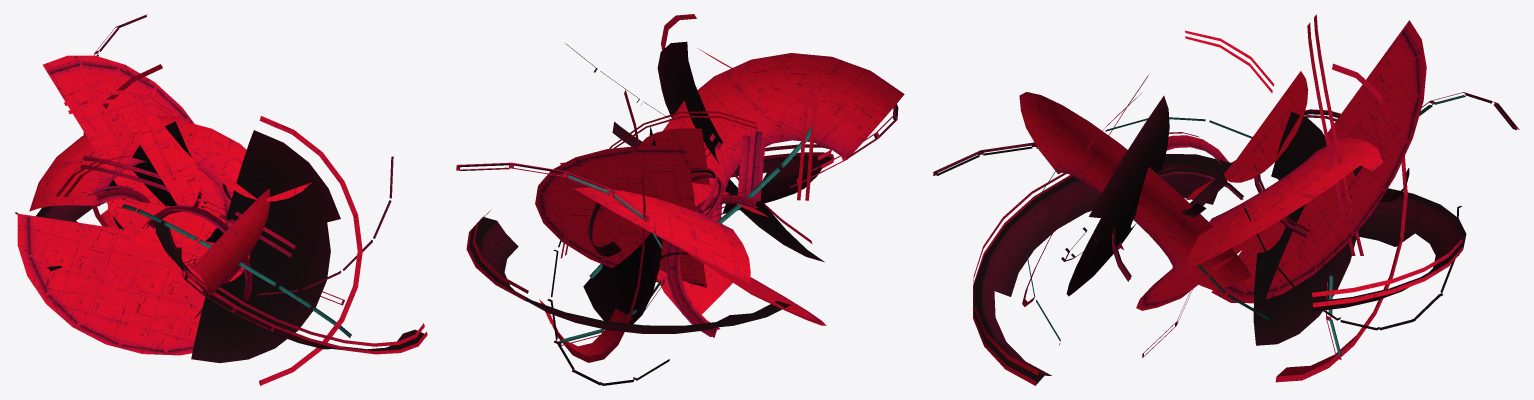
The model's file is MonsterB_Die12.obj.
3 renders of one model, left to right at view 1: azimuth 30°, elevation 25°; view 2: azimuth 150°, elevation 25°; view 3: azimuth 270°, elevation 25°, orthographic. The views are drawn at different scales.
Parts seen in each view (by area): view 1: Sphere001; view 2: Sphere001; view 3: Sphere001.
Part boxes in pixels (x1,y1,x2,y2): Sphere001: [15, 14, 427, 385]; Sphere001: [456, 14, 904, 385]; Sphere001: [933, 14, 1519, 385].
Bounding box in the file's own units: 228 × 183 × 348.
Materials: 1 (1 with a texture image).
